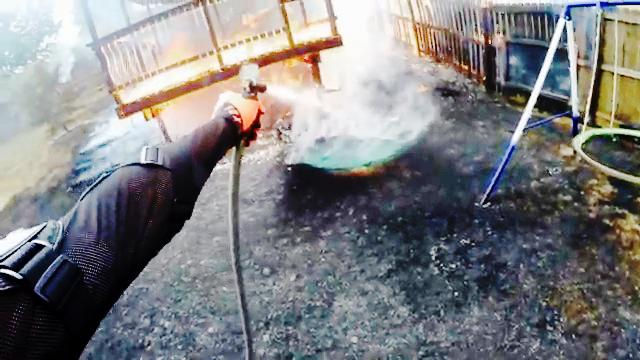smoke: (329, 51, 382, 128), (342, 3, 368, 45)
